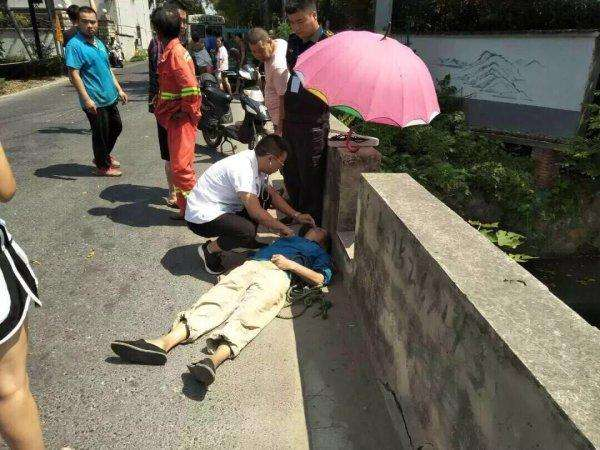10+: (2, 1, 346, 442)
down: (104, 218, 334, 398)
